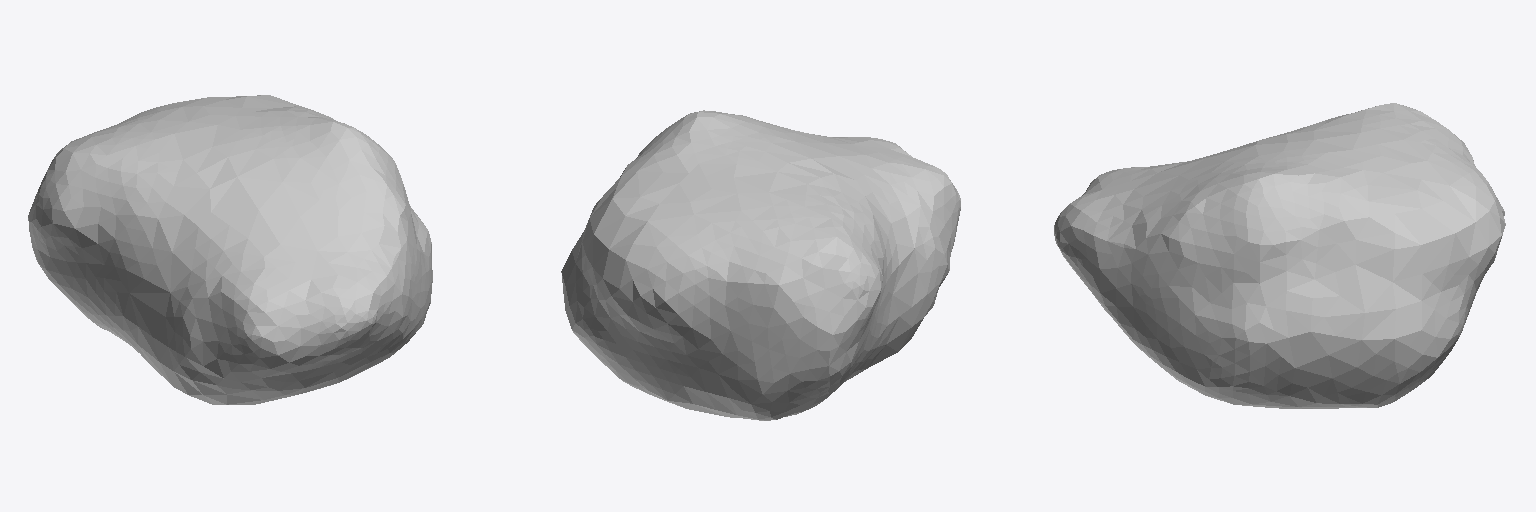
3 renders of one model, left to right at view 1: azimuth 30°, elevation 25°; view 2: azimuth 150°, elevation 25°; view 3: azimuth 270°, elevation 25°, orthographic.
Parts seen in each view (by area): view 1: Polygonal_Model_8_Triangles_0; view 2: Polygonal_Model_8_Triangles_0; view 3: Polygonal_Model_8_Triangles_0.
Boxes of the visible parts, <box> form: Polygonal_Model_8_Triangles_0: <box>28,95,432,404</box>; Polygonal_Model_8_Triangles_0: <box>561,110,960,420</box>; Polygonal_Model_8_Triangles_0: <box>1054,103,1505,408</box>.
Bounding box in the file's own units: 0.268 × 0.1901 × 0.3292.